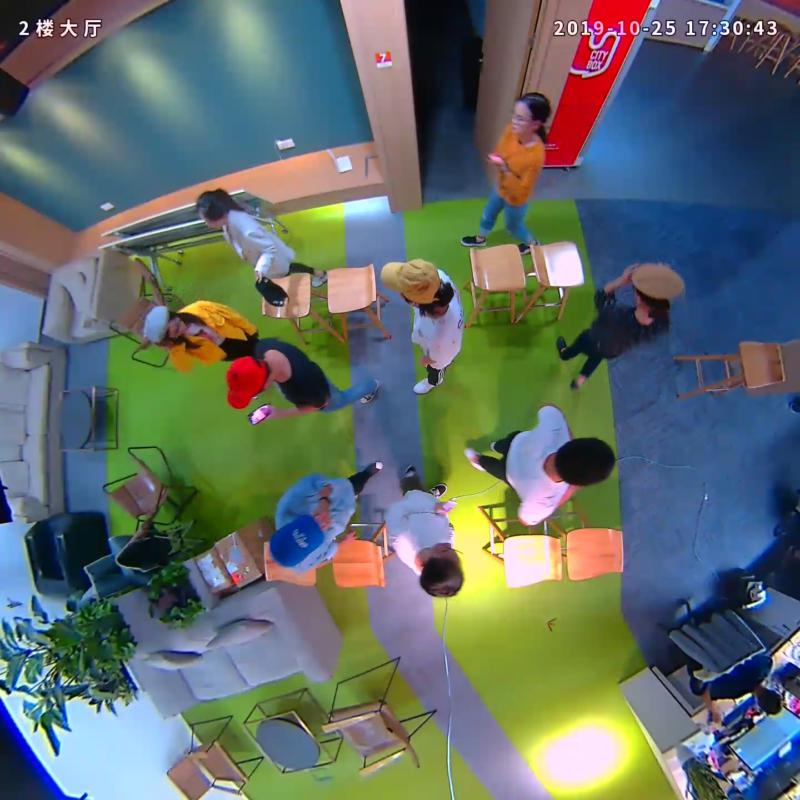head: (553, 437, 616, 489), (380, 256, 441, 309), (269, 513, 325, 568), (630, 262, 685, 311), (418, 542, 465, 598), (226, 352, 268, 410), (510, 92, 551, 136), (143, 303, 186, 343), (196, 187, 228, 230)
